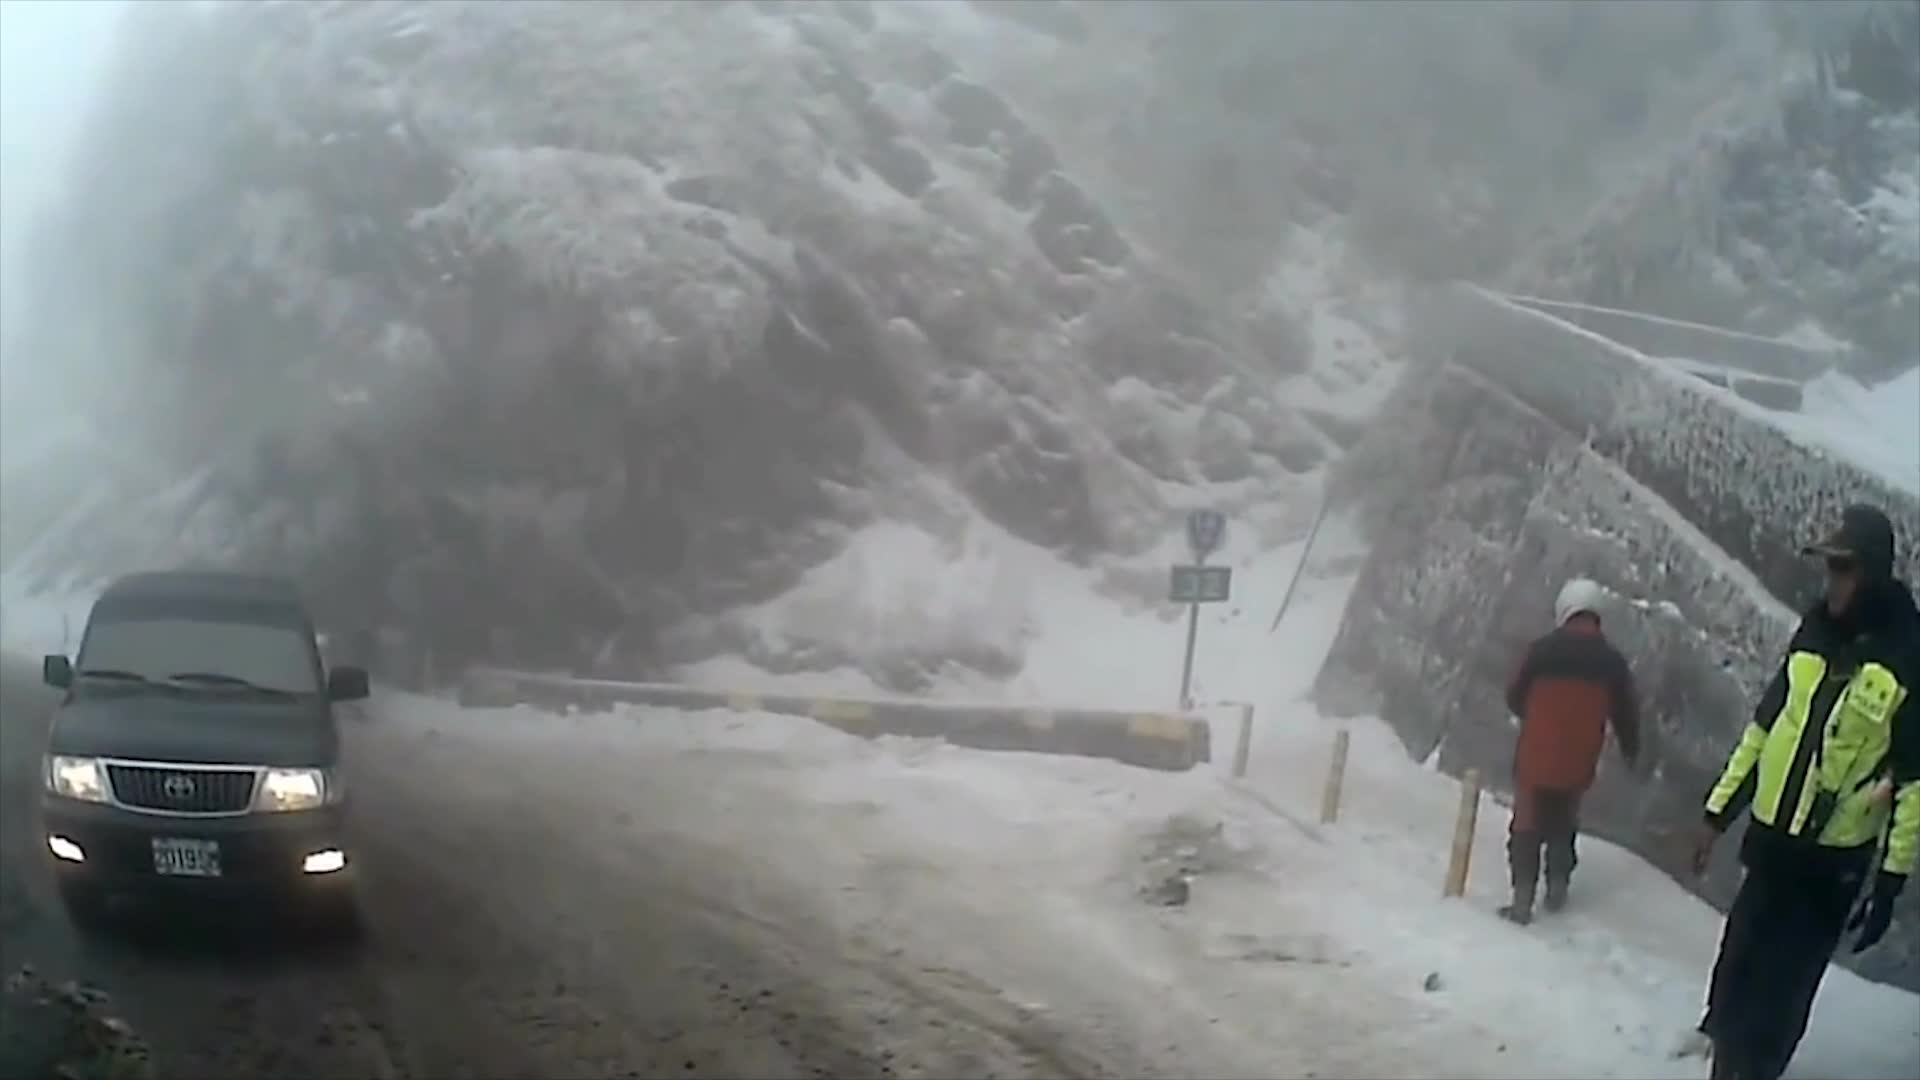pedestrian: (1661, 508, 1920, 1080), (1494, 568, 1646, 922)
vehicle: (37, 571, 370, 941)
